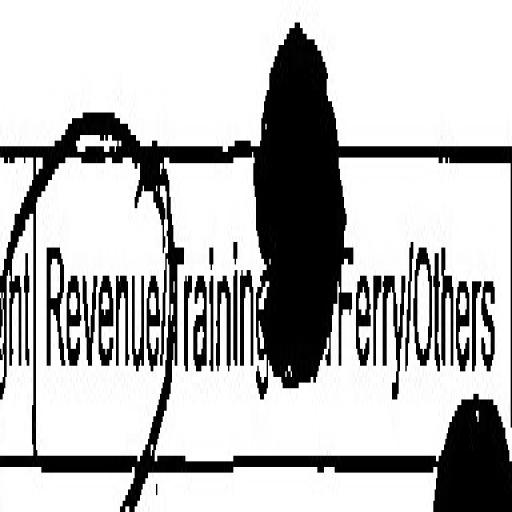check: (37, 16, 167, 512)
